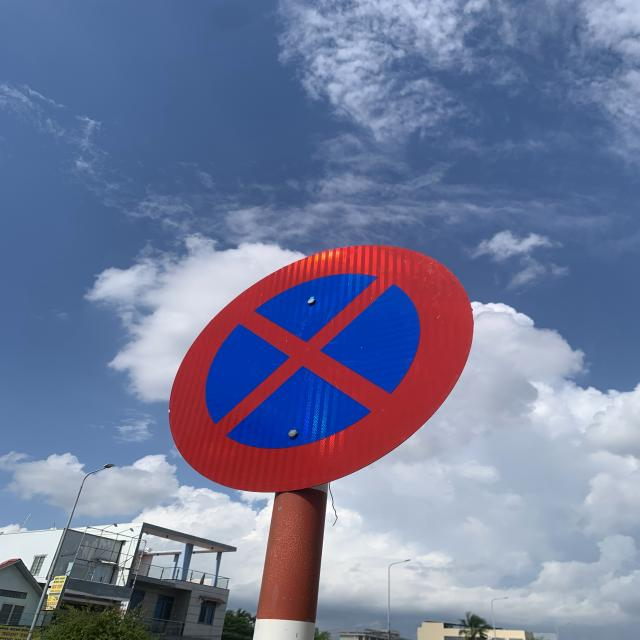Cam_Dung_Va_Dau_Xe: (166, 246, 474, 494)
